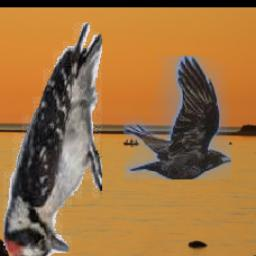Crow: (124, 56, 231, 179)
Woodpecker: (1, 17, 102, 256)
